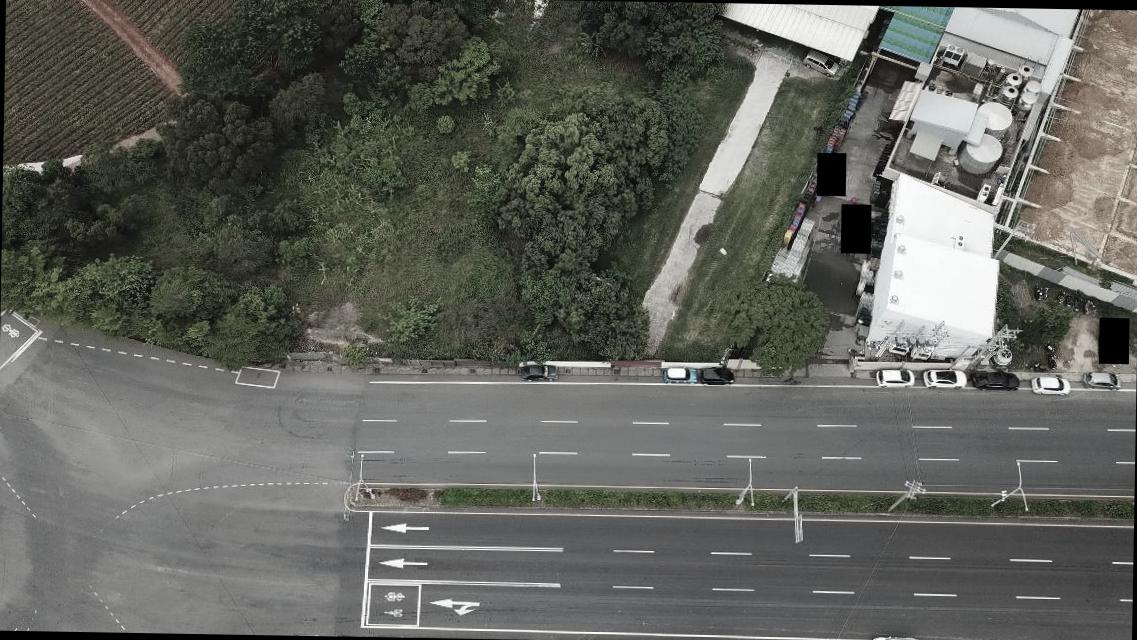vehicle: (923, 366, 967, 390), (972, 371, 1020, 392), (875, 368, 915, 389), (1083, 370, 1121, 390), (1033, 375, 1071, 395), (521, 363, 559, 383), (699, 366, 735, 384), (662, 366, 697, 384), (870, 630, 927, 639)
